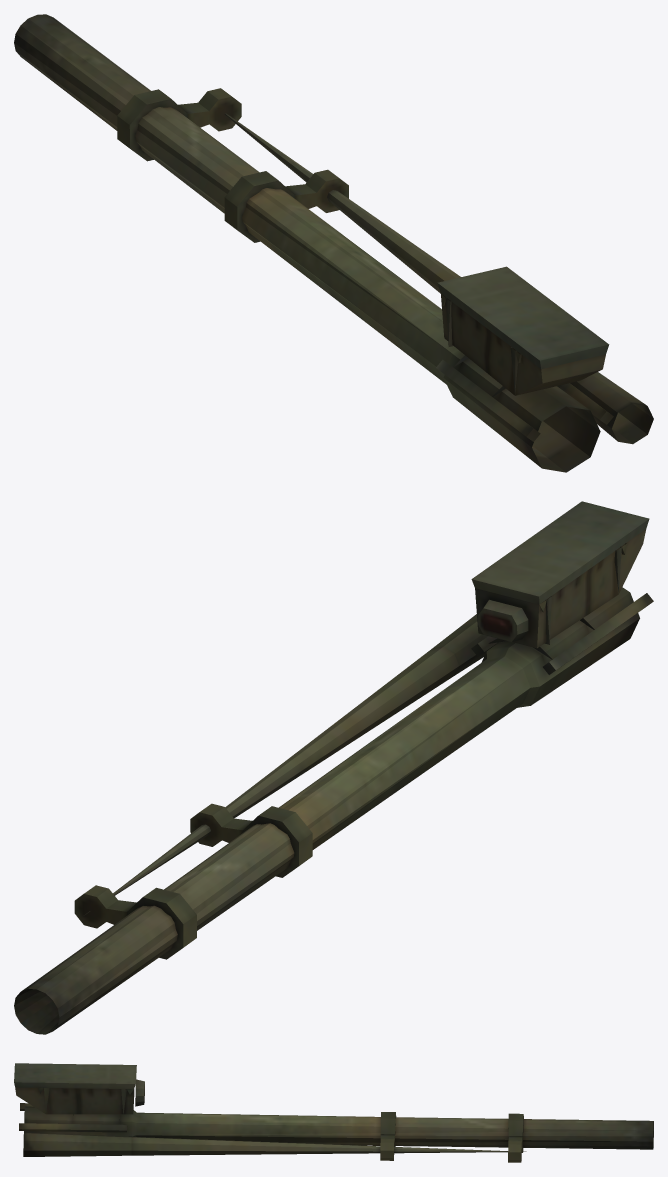
Rendered from Gun.fbx.
The picture shows the model from 3 angles, top to bottom: view 1: azimuth 30°, elevation 25°; view 2: azimuth 150°, elevation 25°; view 3: azimuth 270°, elevation 25°; orthographic projection. The views are drawn at different scales.
Visible parts, largest first — view 1: Gun; view 2: Gun; view 3: Gun.
Boxes of the visible parts, <box> form: Gun: <box>14,14,653,472</box>; Gun: <box>14,501,653,1034</box>; Gun: <box>14,1063,653,1162</box>.
Bounding box in the file's own units: 0.3998 × 0.3402 × 2.73.
